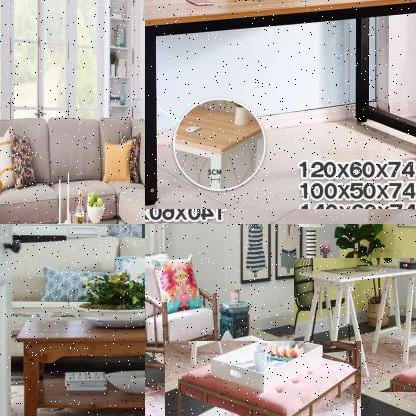table: (145, 0, 415, 211), (292, 258, 415, 394), (164, 341, 362, 415), (10, 317, 144, 415), (217, 293, 253, 378)
